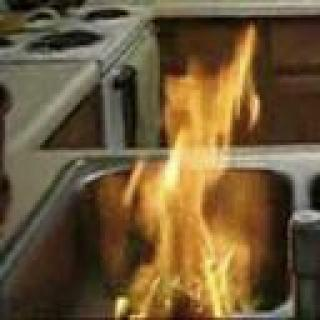fire: (120, 21, 272, 320)
